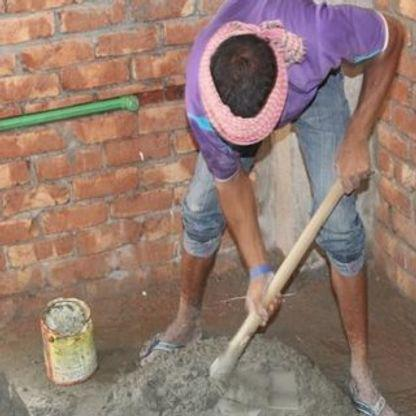without_helmet: (199, 30, 289, 135)
without_vest: (213, 0, 346, 93)
